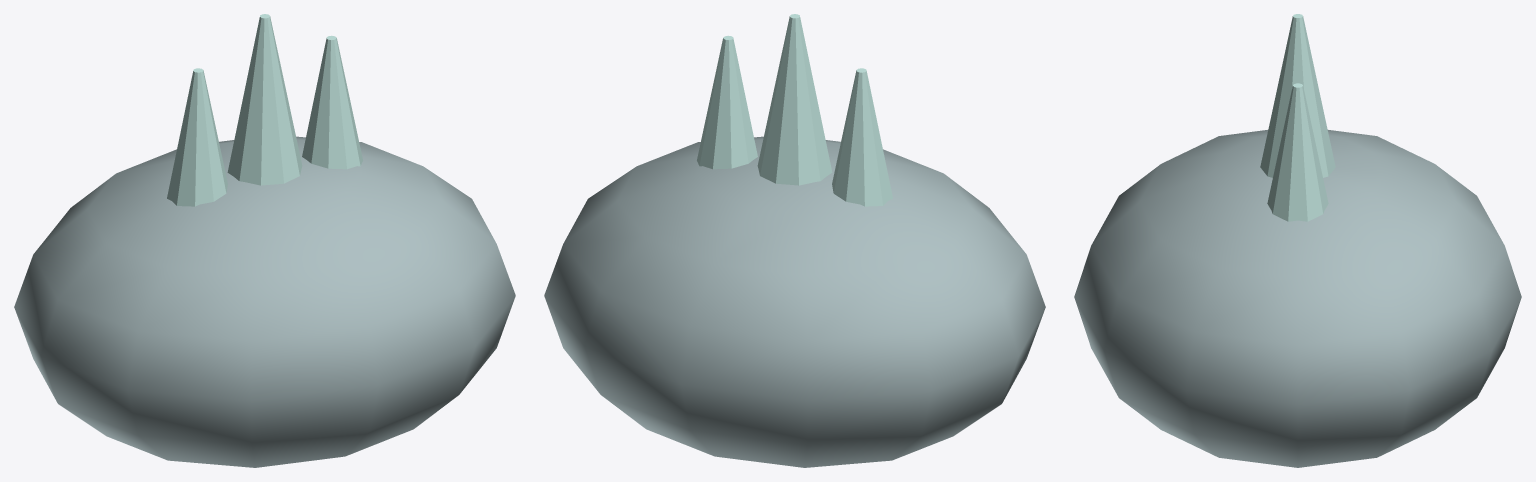
The model's file is rock.glb.
3 views of the same model, side by side, from view 1: azimuth 30°, elevation 25°; view 2: azimuth 150°, elevation 25°; view 3: azimuth 270°, elevation 25° (orthographic).
Visible parts, largest first — view 1: rock_Ocean_basalt, rock_Visor_sea_glass; view 2: rock_Ocean_basalt, rock_Visor_sea_glass; view 3: rock_Ocean_basalt, rock_Visor_sea_glass.
Part boxes in pixels (x1,y1,x2,y2): rock_Ocean_basalt: [14, 136, 515, 467]; rock_Visor_sea_glass: [167, 14, 362, 206]; rock_Ocean_basalt: [544, 136, 1045, 467]; rock_Visor_sea_glass: [697, 14, 892, 206]; rock_Ocean_basalt: [1074, 130, 1521, 467]; rock_Visor_sea_glass: [1260, 14, 1335, 221].
Size of the model in its own units: 1.48 by 1.33 by 1.3.
